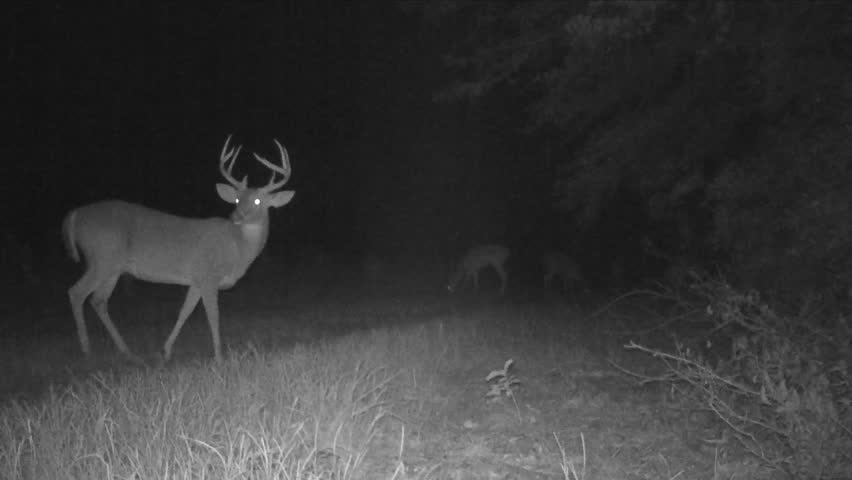deer: (58, 106, 293, 382)
